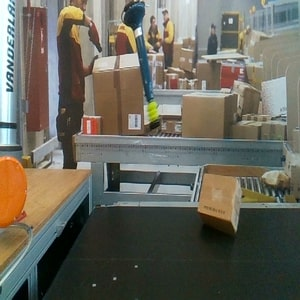box: (196, 173, 243, 234)
